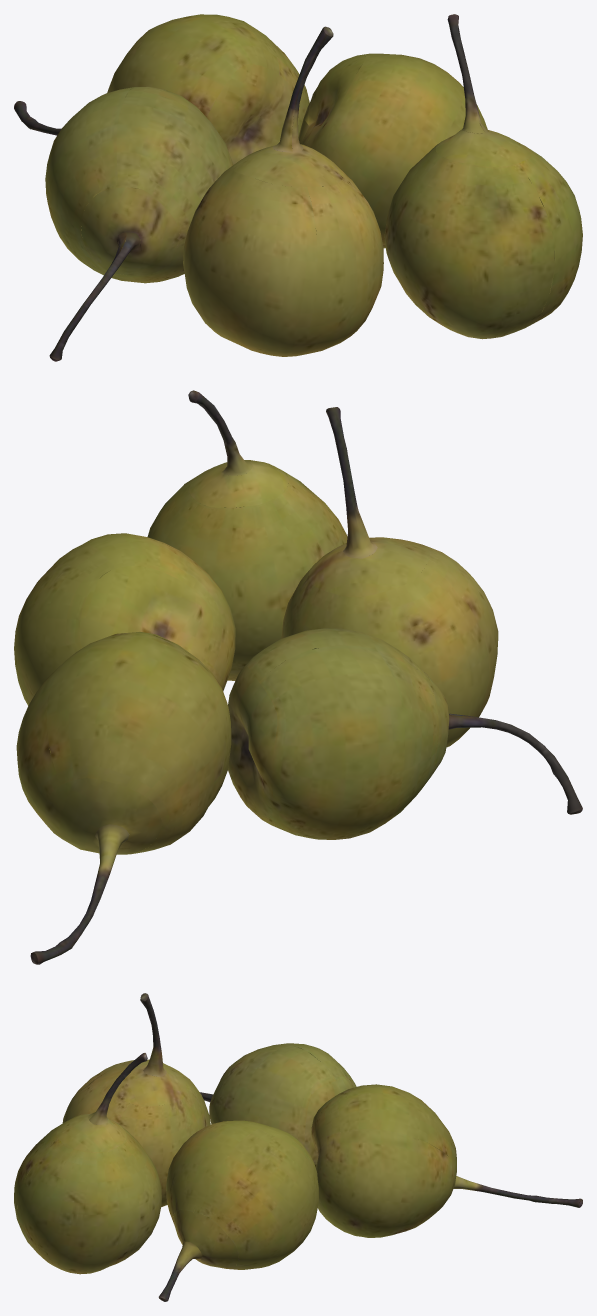
The model's file is runtime.glb.
The picture shows the model from 3 angles, top to bottom: view 1: azimuth 30°, elevation 25°; view 2: azimuth 150°, elevation 25°; view 3: azimuth 270°, elevation 25°; orthographic projection. The views are drawn at different scales.
Parts seen in each view (by area): view 1: food_pears_asian_01_c, food_pears_asian_01_e, food_pears_asian_01_a, food_pears_asian_01_d, food_pears_asian_01_b; view 2: food_pears_asian_01_b, food_pears_asian_01_a, food_pears_asian_01_c, food_pears_asian_01_e, food_pears_asian_01_d; view 3: food_pears_asian_01_d, food_pears_asian_01_b, food_pears_asian_01_e, food_pears_asian_01_a, food_pears_asian_01_c.
Boxes of the visible parts, bbox=[...] form: food_pears_asian_01_c: bbox=[183, 26, 383, 356]; food_pears_asian_01_e: bbox=[384, 14, 582, 339]; food_pears_asian_01_a: bbox=[45, 86, 233, 361]; food_pears_asian_01_d: bbox=[298, 53, 487, 248]; food_pears_asian_01_b: bbox=[14, 14, 309, 164]; food_pears_asian_01_b: bbox=[16, 632, 231, 964]; food_pears_asian_01_a: bbox=[228, 628, 582, 839]; food_pears_asian_01_c: bbox=[281, 407, 498, 747]; food_pears_asian_01_e: bbox=[147, 390, 347, 680]; food_pears_asian_01_d: bbox=[14, 533, 235, 705]; food_pears_asian_01_d: bbox=[158, 1120, 318, 1301]; food_pears_asian_01_b: bbox=[311, 1084, 582, 1237]; food_pears_asian_01_e: bbox=[14, 1053, 161, 1274]; food_pears_asian_01_a: bbox=[200, 1043, 356, 1167]; food_pears_asian_01_c: bbox=[62, 993, 210, 1206].
Size of the model in its own units: 0.1261 by 0.0713 by 0.1669.
Materials: 1 (1 with a texture image).
